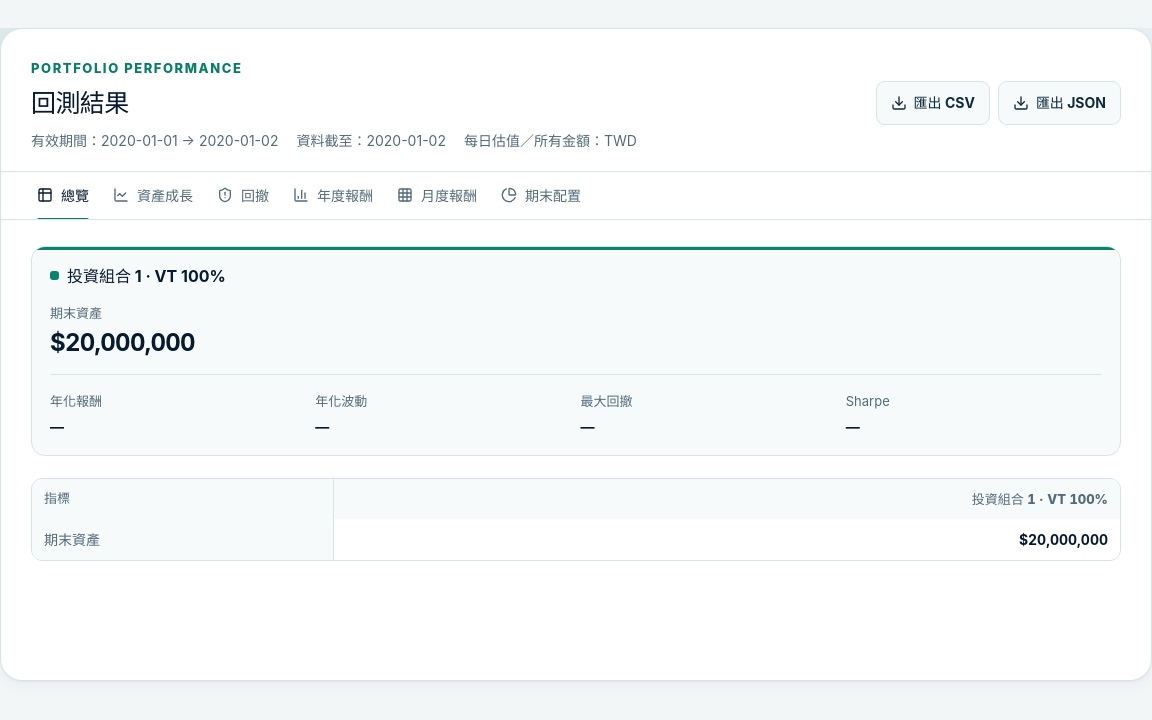
Test: ResultsDashboard growth scale › uses log scale by default and lets the user override it
Click the tab "資產成長" at [153, 195], box [101,172,205,218]
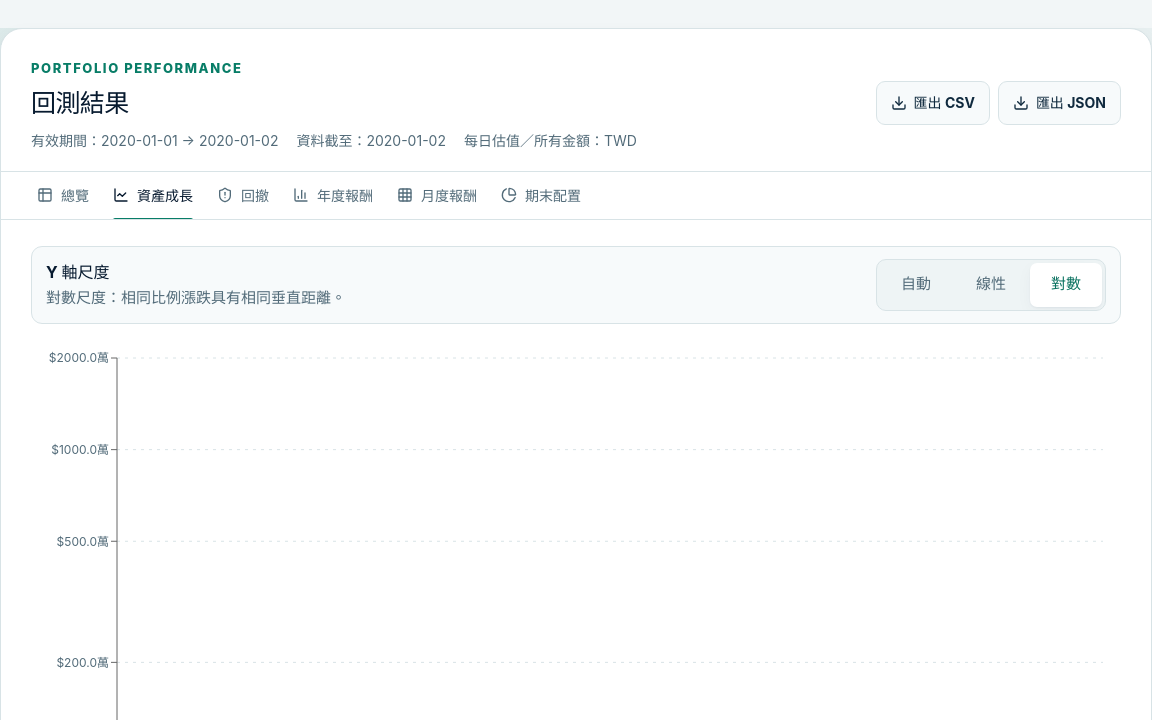
expect the message shows "對數尺度": met, box [46,288,346,307]
Click the button "線性" at [991, 284], box [955,262,1027,306]
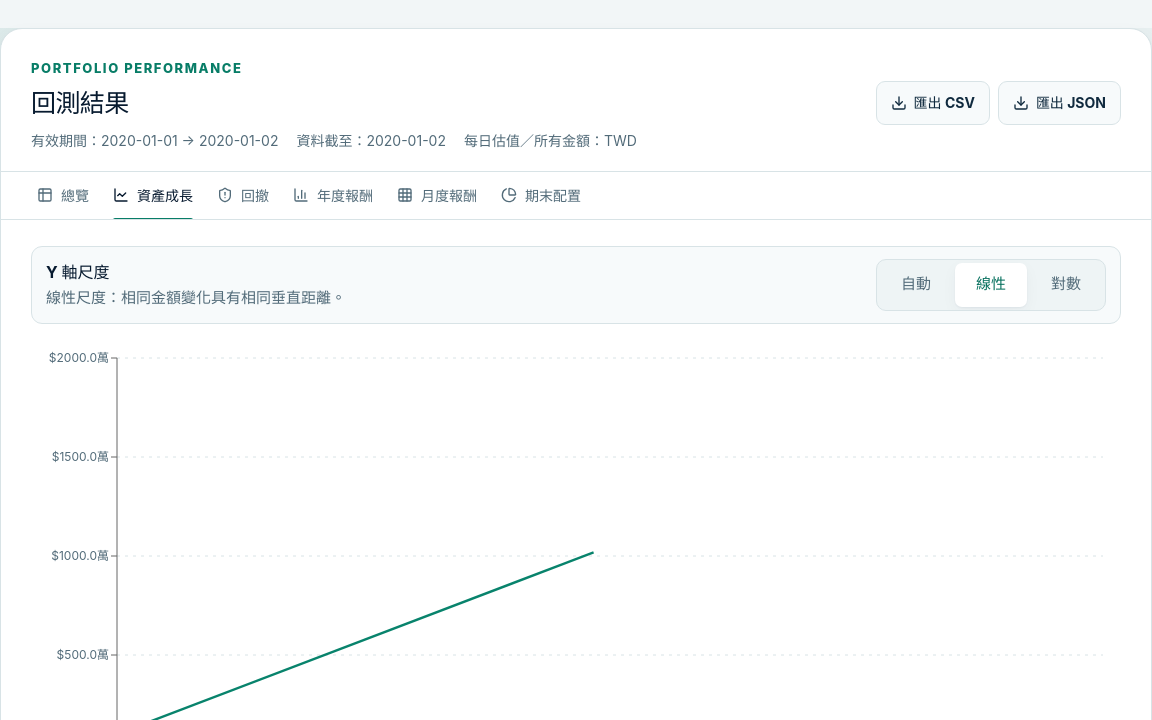
expect the message shows "線性尺度": met, box [46,288,346,307]
